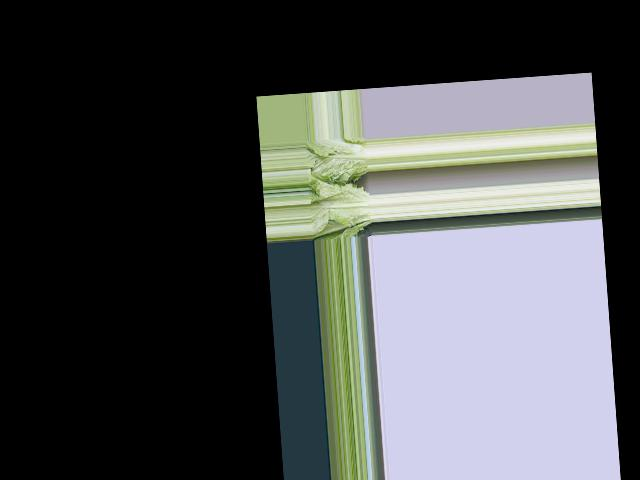lettuce: (309, 139, 369, 182)
